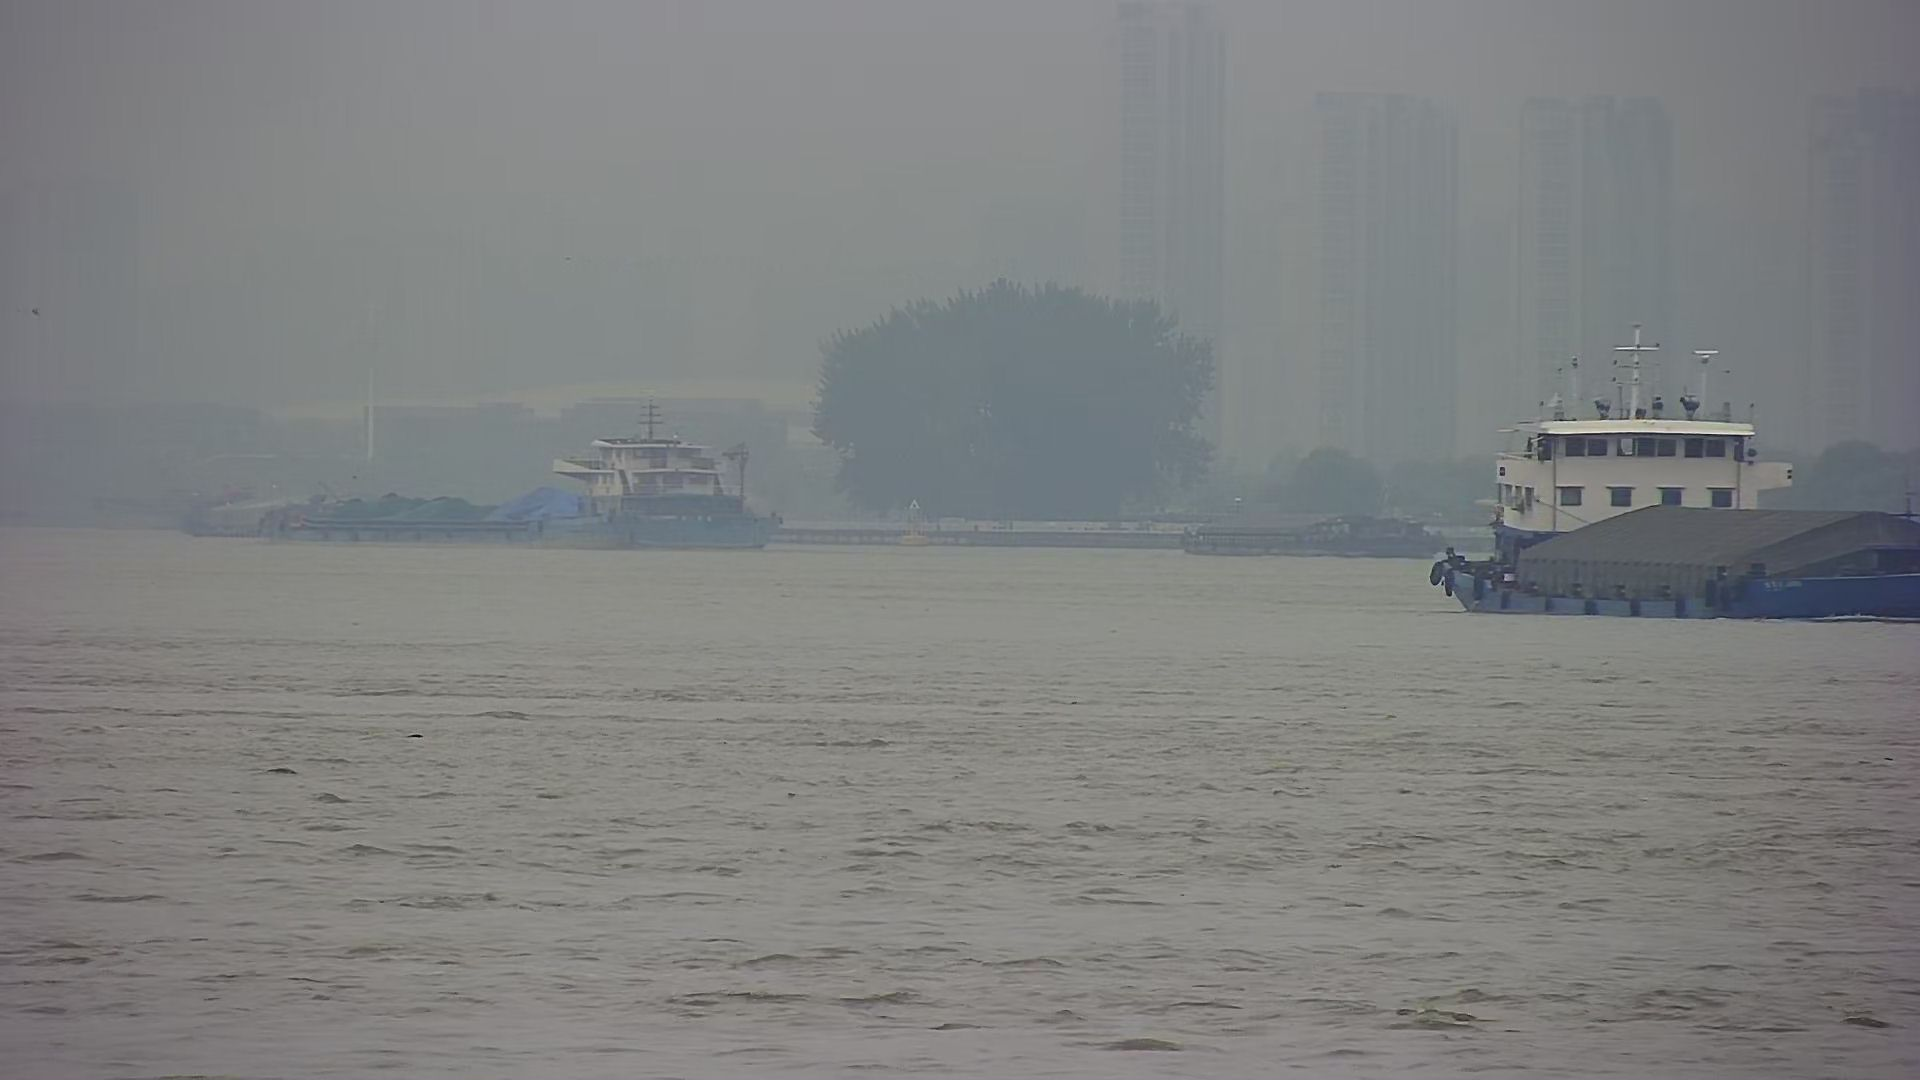ship: (1425, 315, 1920, 637), (481, 386, 798, 558), (1182, 498, 1447, 560), (298, 492, 539, 549), (177, 473, 336, 543)
